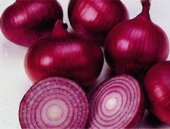onion: (107, 0, 169, 70), (18, 77, 91, 128), (0, 1, 63, 47), (90, 76, 141, 128)
